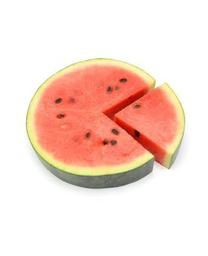watermelon: (24, 57, 186, 190)
